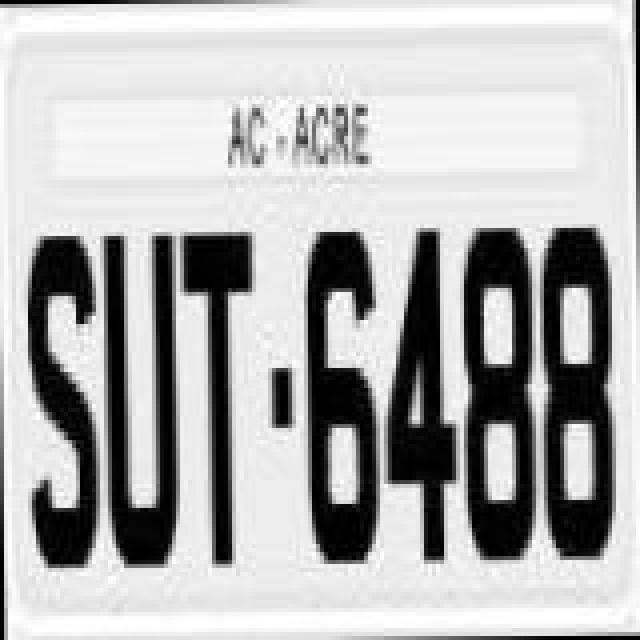4: (380, 222, 464, 574)
6: (304, 224, 388, 576)
8: (456, 220, 540, 572), (536, 220, 620, 572)
S: (24, 228, 108, 580)
T: (180, 232, 264, 572)
U: (104, 228, 188, 580)
